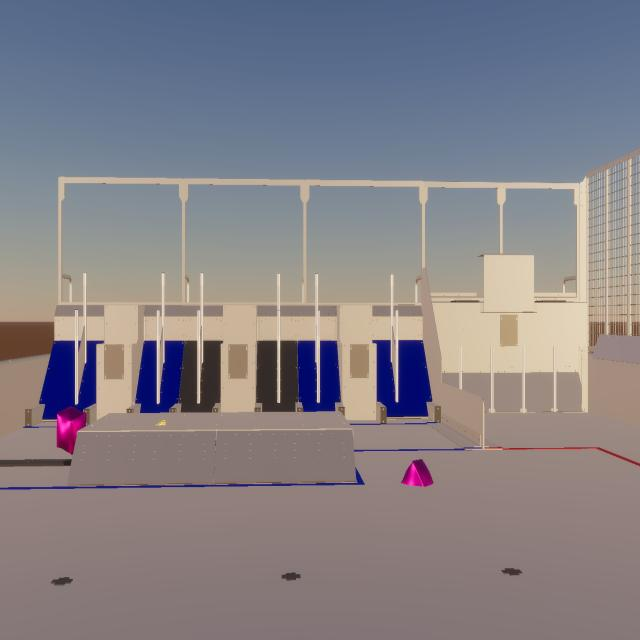frc_cone: (156, 420, 166, 426)
frc_cube: (57, 406, 86, 455), (401, 459, 434, 487)
